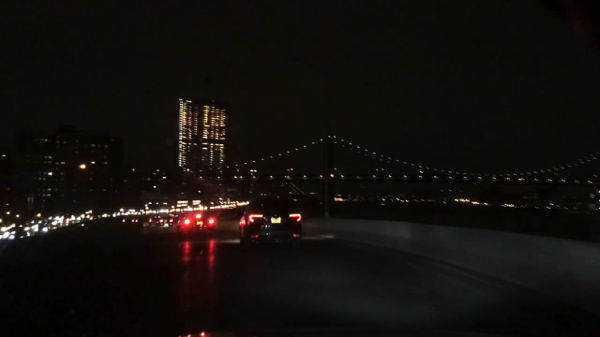car: (236, 198, 302, 249), (177, 212, 215, 236), (122, 216, 140, 227), (148, 214, 163, 227), (169, 215, 182, 227)
